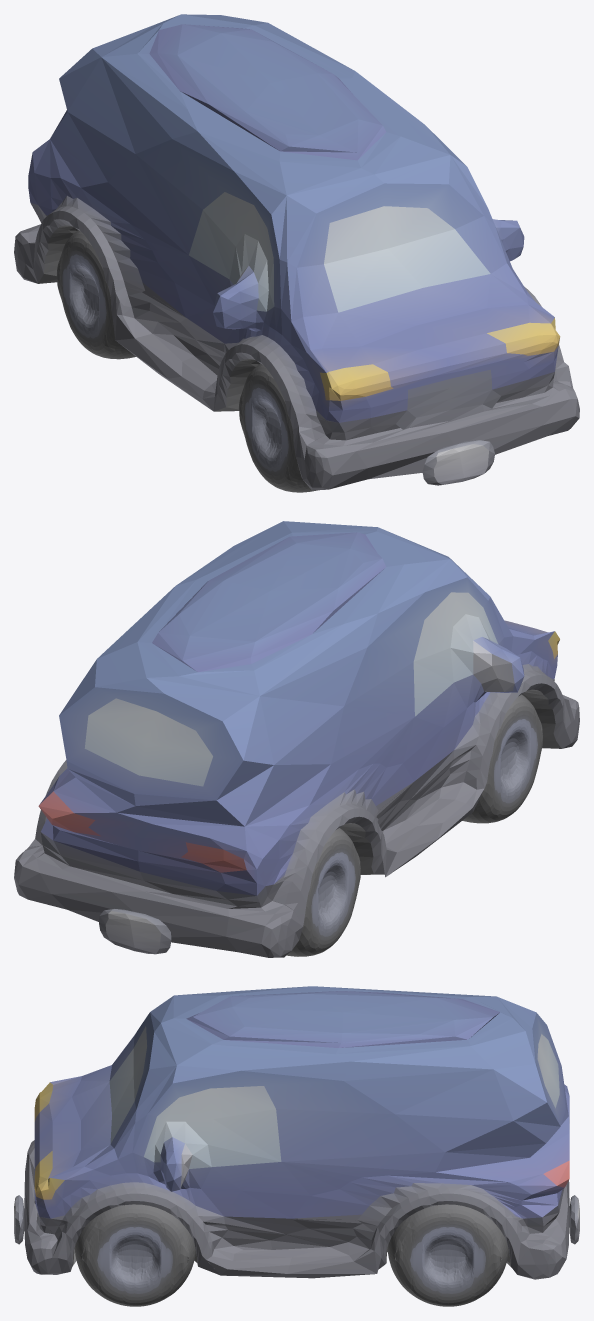
The model's file is van.glb.
3 renders of one model, top to bottom at view 1: azimuth 30°, elevation 25°; view 2: azimuth 150°, elevation 25°; view 3: azimuth 270°, elevation 25°, orthographic. The views are drawn at different scales.
Size of the model in its own units: 0.3731 by 0.3347 by 0.684.
